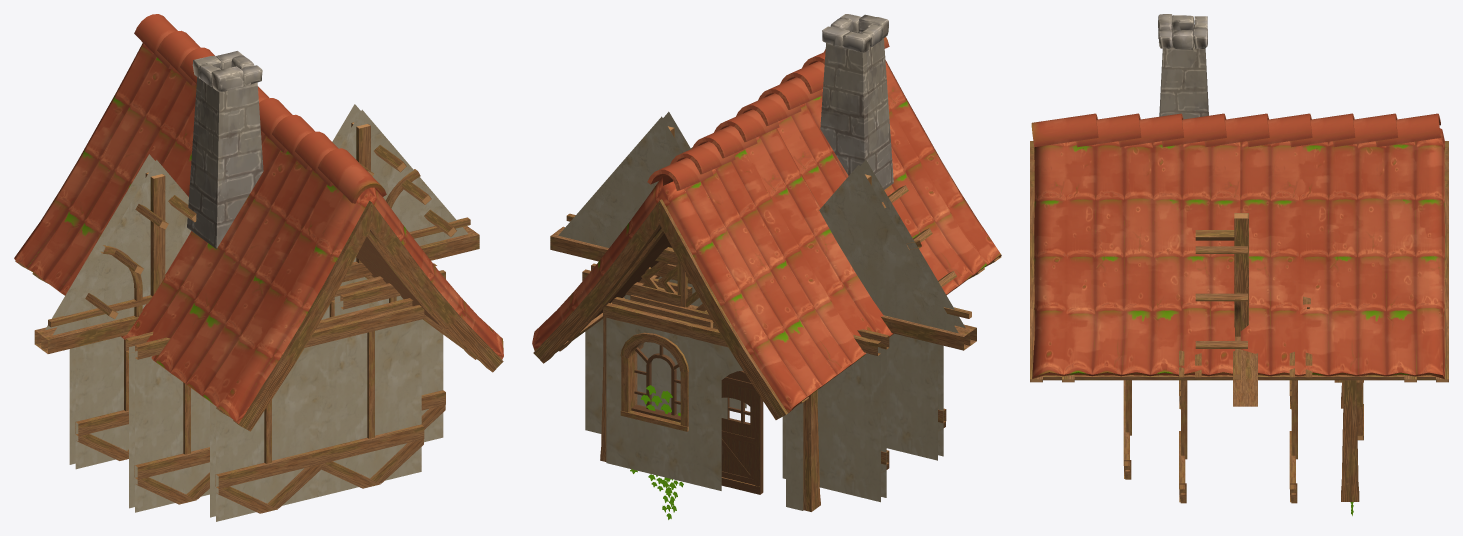
Rendered from bg_medieval_house.glb.
3 renders of one model, left to right at view 1: azimuth 30°, elevation 25°; view 2: azimuth 150°, elevation 25°; view 3: azimuth 270°, elevation 25°, orthographic. The views are drawn at different scales.
Parts seen in each view (by area): view 1: Roof_RoundTiles_4x6, Wall_Plaster_Straight.001, Roof_Front_Brick4, Wall_Plaster_Straight, Prop_Chimney, Wall_Plaster_Straight.003, Roof_Front_Brick4.001, Wall_Plaster_Straight.002, Wall_Plaster_Straight.005; view 2: Roof_RoundTiles_4x6, Roof_Front_Brick4, Wall_Plaster_Window_Wide_Round, Prop_Chimney, Wall_Plaster_Straight.002, Roof_Front_Brick4.001, Wall_Plaster_Straight.003, Wall_Plaster_Door_Round, Wall_Plaster_Straight.004, Door_1_Round, Window_Wide_Round1, Balcony_Cross_Straight (+3 smaller); view 3: Roof_RoundTiles_4x6, Prop_Chimney, Roof_Front_Brick4.001, Corner_ExteriorWide_Wood.001, Wall_Plaster_Straight.004, Wall_Plaster_Straight.005, Wall_Plaster_Straight.001.
Part boxes in pixels (x1=…): Roof_RoundTiles_4x6: x1=14, y1=14, x2=503, y2=431; Wall_Plaster_Straight.001: x1=315, y1=298, x2=424, y2=496; Roof_Front_Brick4: x1=34, y1=154, x2=196, y2=353; Wall_Plaster_Straight: x1=210, y1=329, x2=321, y2=521; Prop_Chimney: x1=187, y1=51, x2=263, y2=248; Wall_Plaster_Straight.003: x1=125, y1=332, x2=209, y2=512; Roof_Front_Brick4.001: x1=332, y1=104, x2=479, y2=282; Wall_Plaster_Straight.002: x1=69, y1=336, x2=128, y2=469; Wall_Plaster_Straight.005: x1=332, y1=263, x2=445, y2=442; Roof_RoundTiles_4x6: x1=532, y1=37, x2=1001, y2=419; Roof_Front_Brick4: x1=819, y1=160, x2=976, y2=350; Wall_Plaster_Window_Wide_Round: x1=603, y1=297, x2=712, y2=486; Prop_Chimney: x1=820, y1=14, x2=893, y2=189; Wall_Plaster_Straight.002: x1=782, y1=329, x2=889, y2=502; Roof_Front_Brick4.001: x1=550, y1=111, x2=692, y2=284; Wall_Plaster_Straight.003: x1=886, y1=294, x2=946, y2=460; Wall_Plaster_Door_Round: x1=701, y1=321, x2=803, y2=510; Wall_Plaster_Straight.004: x1=582, y1=263, x2=692, y2=433; Door_1_Round: x1=721, y1=370, x2=763, y2=494; Window_Wide_Round1: x1=620, y1=332, x2=688, y2=431; Balcony_Cross_Straight: x1=630, y1=247, x2=711, y2=319; Roof_RoundTiles_4x6: x1=1030, y1=113, x2=1448, y2=382; Prop_Chimney: x1=1158, y1=14, x2=1208, y2=119; Roof_Front_Brick4.001: x1=1195, y1=213, x2=1257, y2=406; Corner_ExteriorWide_Wood.001: x1=1341, y1=380, x2=1359, y2=501; Wall_Plaster_Straight.004: x1=1289, y1=351, x2=1312, y2=503; Wall_Plaster_Straight.005: x1=1179, y1=350, x2=1201, y2=503; Wall_Plaster_Straight.001: x1=1123, y1=380, x2=1131, y2=479.
Size of the model in its own units: 8.4 by 8.9 by 7.57.
Materials: 34 (32 with a texture image).
